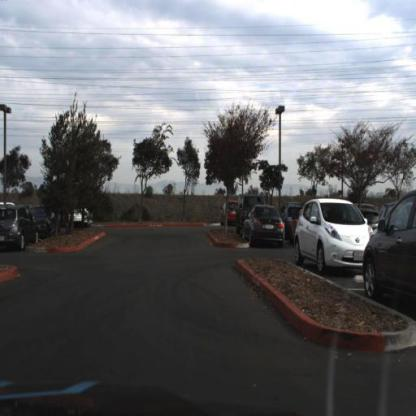car: (363, 187, 416, 317), (293, 196, 375, 277), (242, 203, 290, 248), (1, 205, 42, 254), (237, 192, 265, 232), (29, 204, 60, 240), (219, 199, 237, 228), (69, 209, 92, 226)
